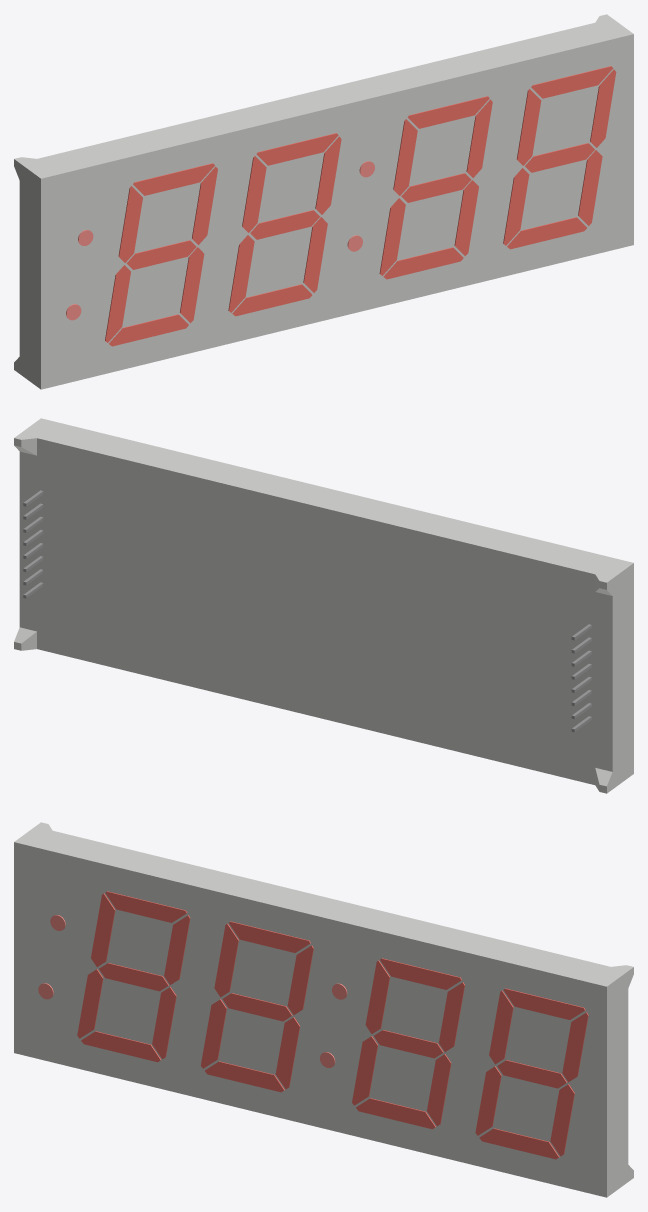
The model's file is 1.2in 7 Segment Display.glb.
3 renders of one model, top to bottom at view 1: azimuth 30°, elevation 25°; view 2: azimuth 150°, elevation 25°; view 3: azimuth 330°, elevation 25°, orthographic.
Parts seen in each view (by area): view 1: 1.2in 7 Segment v5; view 2: 1.2in 7 Segment v5; view 3: 1.2in 7 Segment v5.
Boxes of the visible parts, <box> form: 1.2in 7 Segment v5: <box>14,14,633,389</box>; 1.2in 7 Segment v5: <box>14,418,633,793</box>; 1.2in 7 Segment v5: <box>14,822,633,1197</box>.
Size of the model in its own units: 120 by 40.8 by 13.7.
